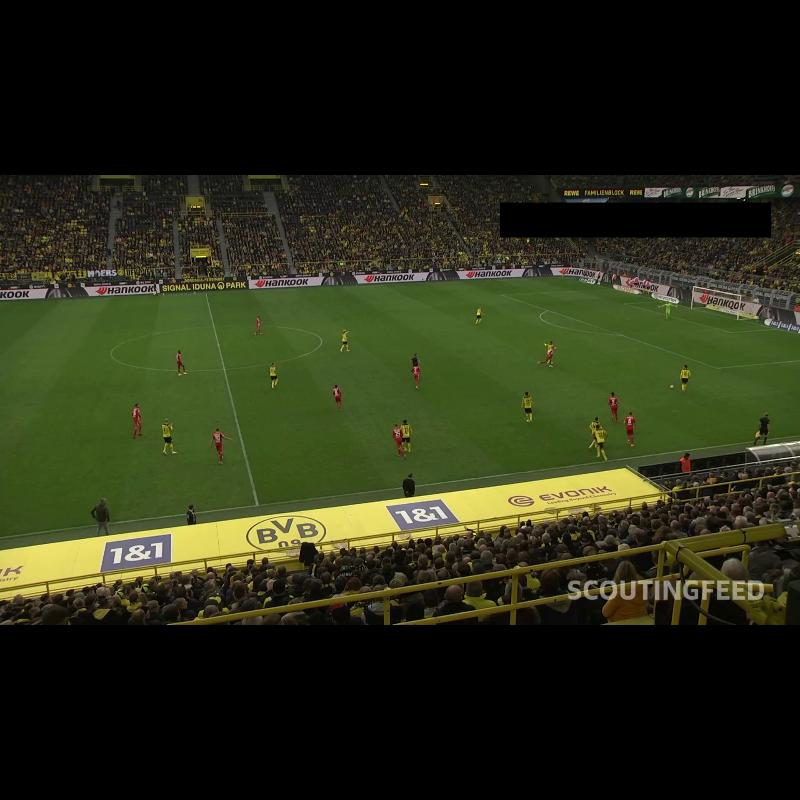cross_recipient_zone: (501, 289, 800, 368)
crossing_player_zone: (626, 360, 800, 441), (411, 278, 612, 297)
pitch: (0, 278, 800, 538)
